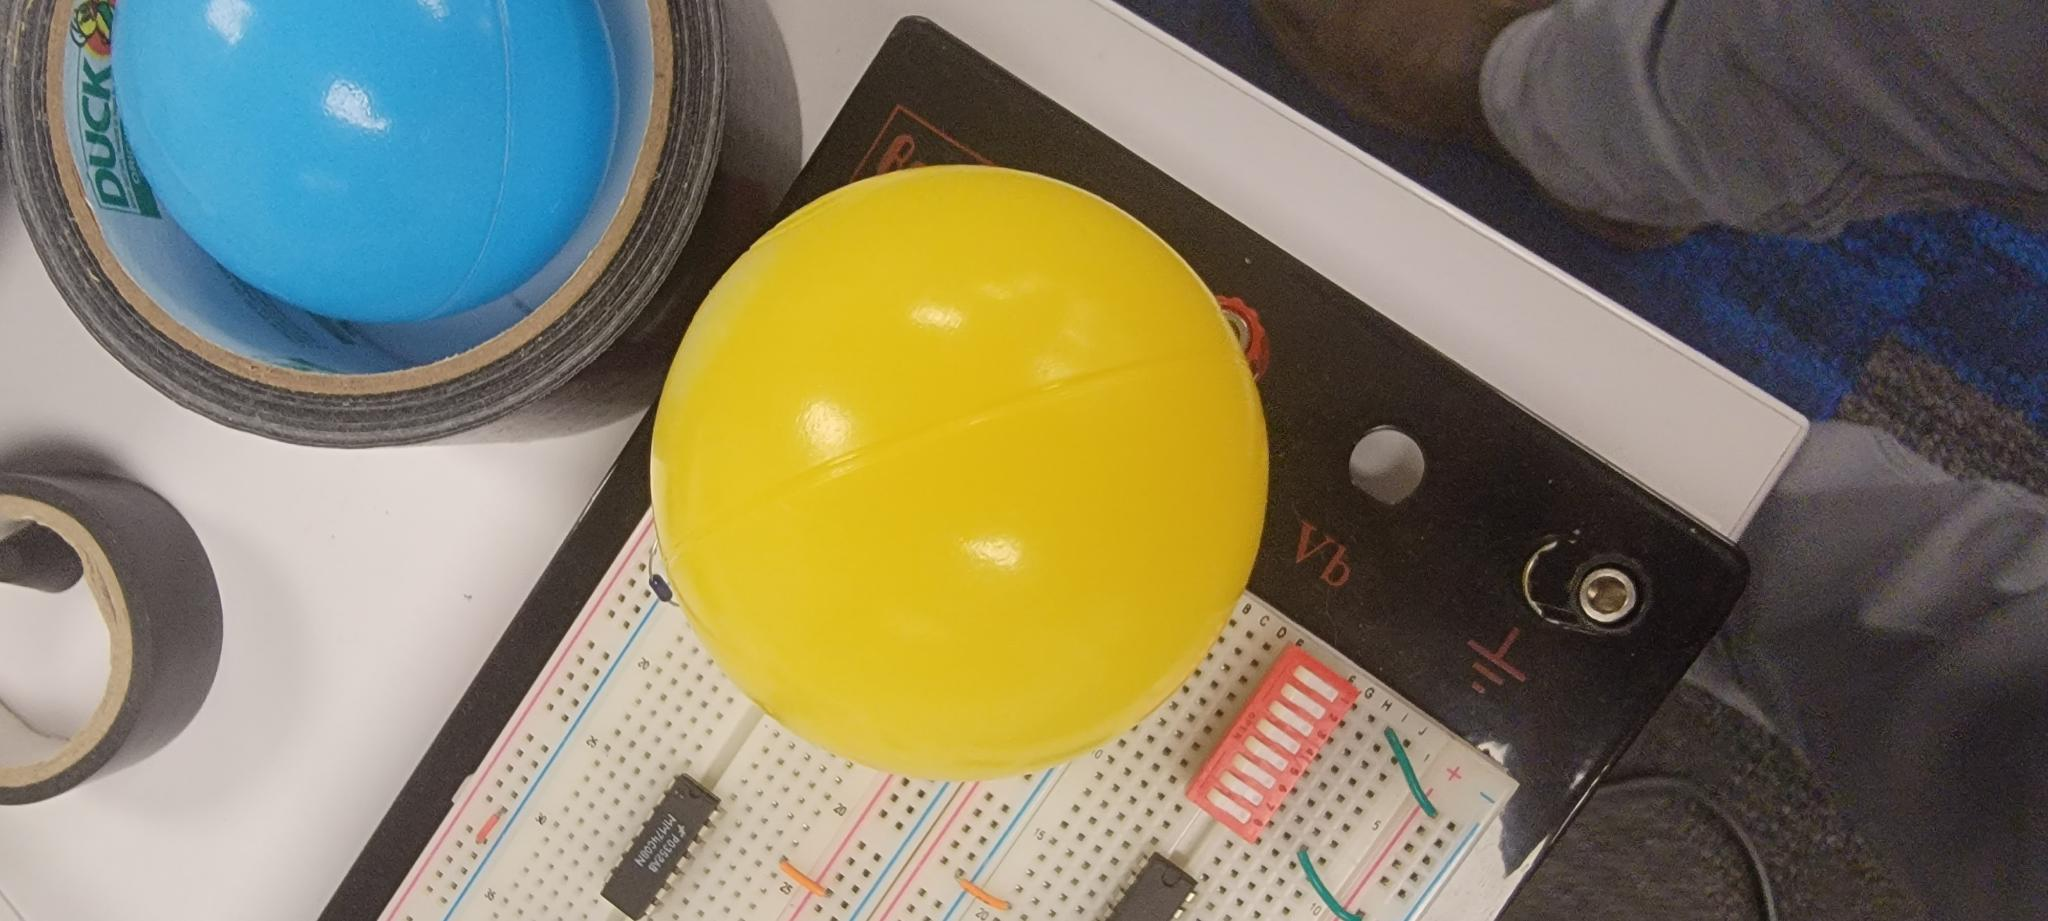Yellow-Ball: (148, 648, 752, 921)
